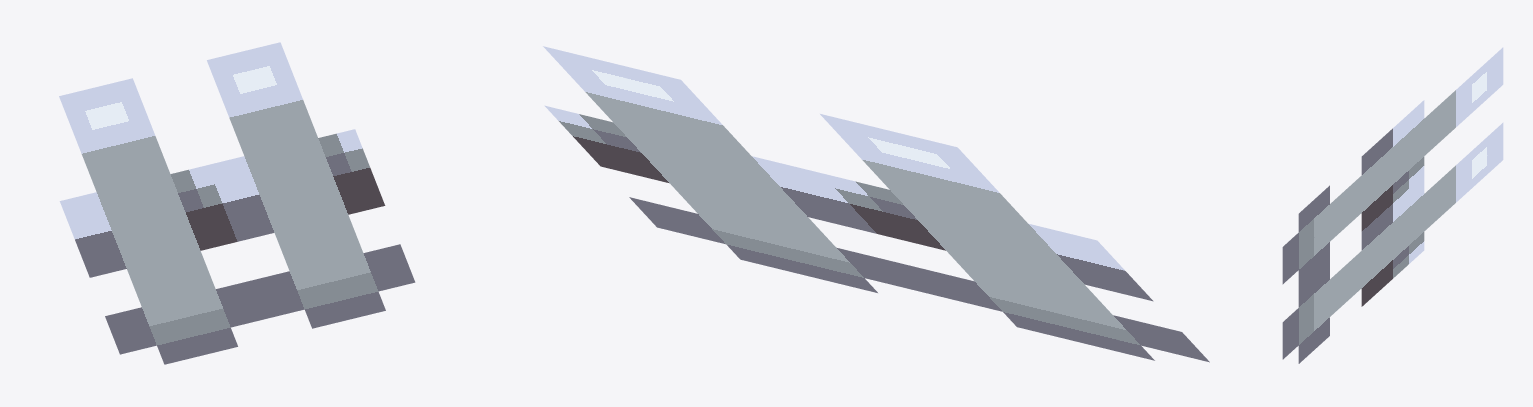
The picture shows the model from 3 angles, left to right: view 1: azimuth 30°, elevation 25°; view 2: azimuth 150°, elevation 25°; view 3: azimuth 270°, elevation 25°; orthographic projection. The views are drawn at different scales.
Size of the model in its own units: 1 by 0.707 by 0.707.
1 material, 1 textured.
